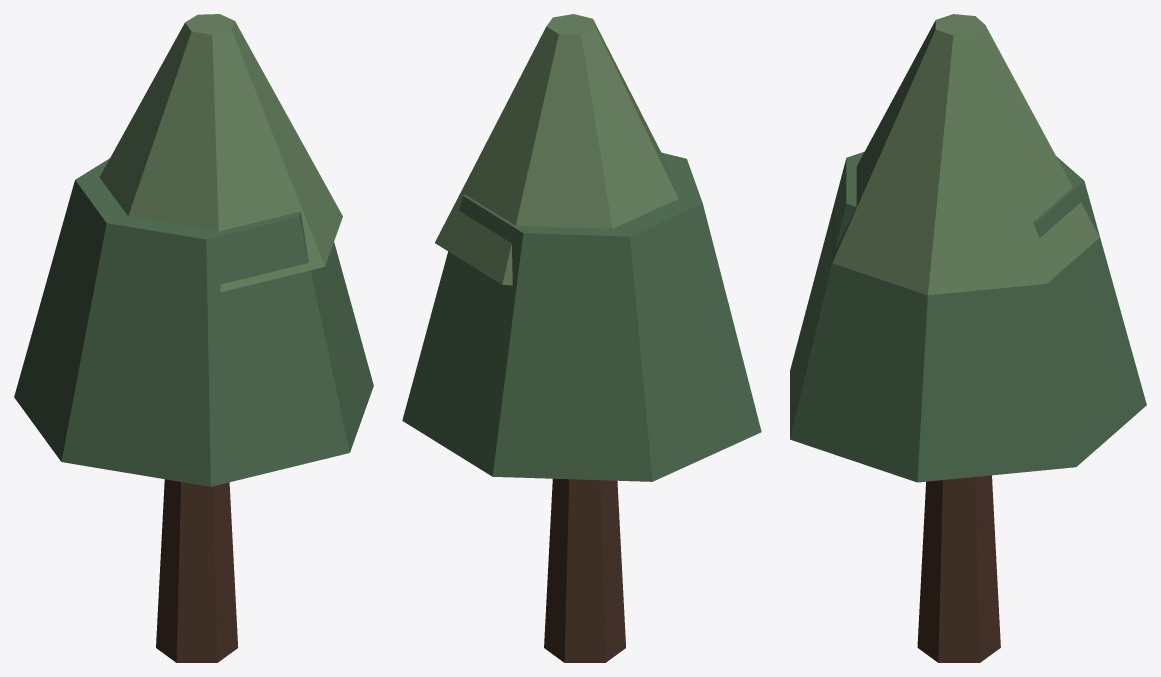
The model's file is prop_tree_02.glb.
3 renders of one model, left to right at view 1: azimuth 30°, elevation 25°; view 2: azimuth 150°, elevation 25°; view 3: azimuth 270°, elevation 25°, orthographic.
Parts seen in each view (by area): view 1: CrownLower.001, CrownUpper.001, Trunk.001; view 2: CrownLower.001, CrownUpper.001, Trunk.001; view 3: CrownLower.001, CrownUpper.001, Trunk.001.
Boxes of the visible parts, bbox=[...] form: CrownLower.001: bbox=[14, 158, 373, 486]; CrownUpper.001: bbox=[99, 14, 342, 292]; Trunk.001: bbox=[156, 479, 238, 662]; CrownLower.001: bbox=[402, 152, 761, 481]; CrownUpper.001: bbox=[435, 14, 678, 285]; Trunk.001: bbox=[544, 478, 625, 662]; CrownLower.001: bbox=[790, 151, 1146, 482]; CrownUpper.001: bbox=[832, 14, 1099, 295]; Trunk.001: bbox=[917, 475, 1000, 662].
Size of the model in its own units: 1.4 by 2.66 by 1.37.
